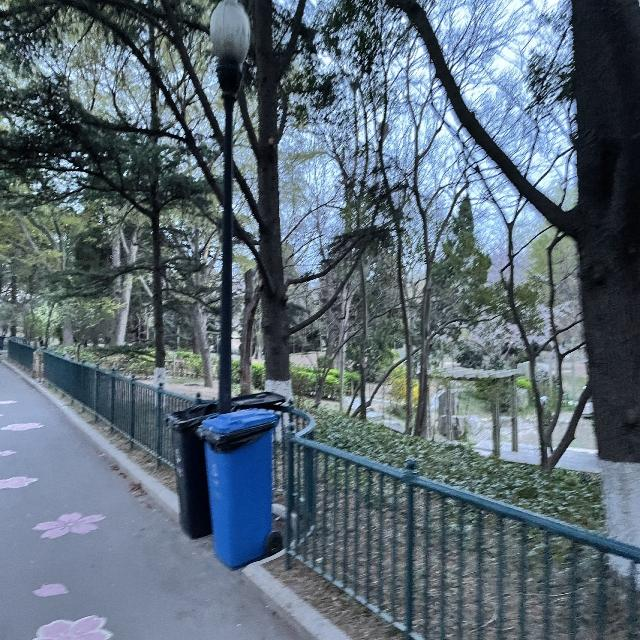garbage_bin: (195, 406, 279, 569), (166, 401, 212, 540)
